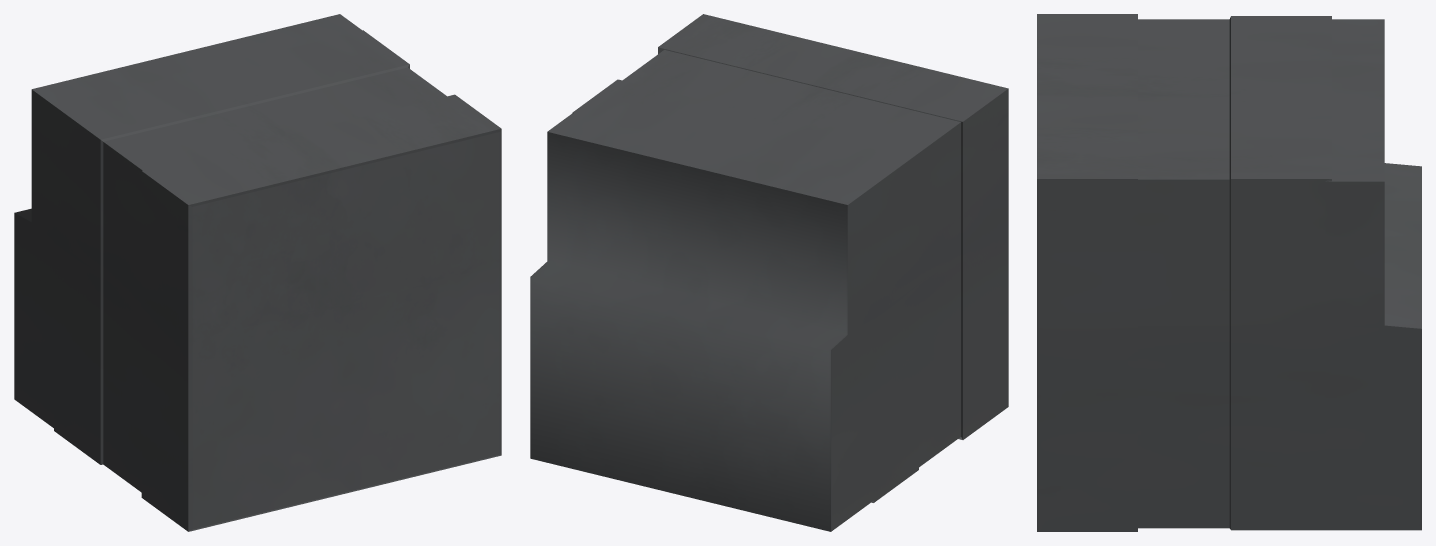
The model's file is cubemod_bordillo.fbx.
3 renders of one model, left to right at view 1: azimuth 30°, elevation 25°; view 2: azimuth 150°, elevation 25°; view 3: azimuth 270°, elevation 25°, orthographic. The views are drawn at different scales.
Parts seen in each view (by area): view 1: cube_bordillo; view 2: cube_bordillo; view 3: cube_bordillo.
Boxes of the visible parts, <box> form: cube_bordillo: <box>14,14,501,531</box>; cube_bordillo: <box>530,14,1008,531</box>; cube_bordillo: <box>1037,14,1421,531</box>.
Size of the model in its own units: 406 by 405 by 400.
